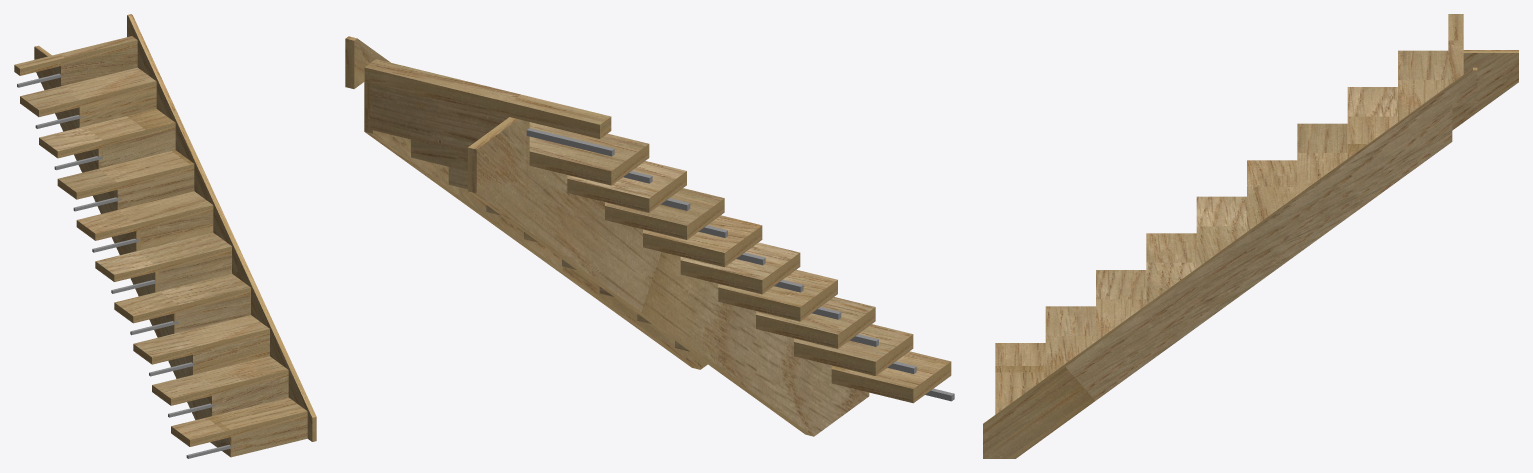
Rendered from Staircase_2.dae.
The picture shows the model from 3 angles, left to right: view 1: azimuth 30°, elevation 25°; view 2: azimuth 150°, elevation 25°; view 3: azimuth 270°, elevation 25°; orthographic projection. The views are drawn at different scales.
Parts seen in each view (by area): view 1: StairCon (×33); view 2: StairCon (×17); view 3: StairCon (×21).
Part boxes in pixels (<box>): StairCon (×33): <box>14,14,316,457</box>; StairCon (×17): <box>345,36,951,436</box>; StairCon (×21): <box>983,40,1518,458</box>.
Bounding box in the file's own units: 0.9071 × 2.55 × 2.04.
Materials: 4 (3 with a texture image).
